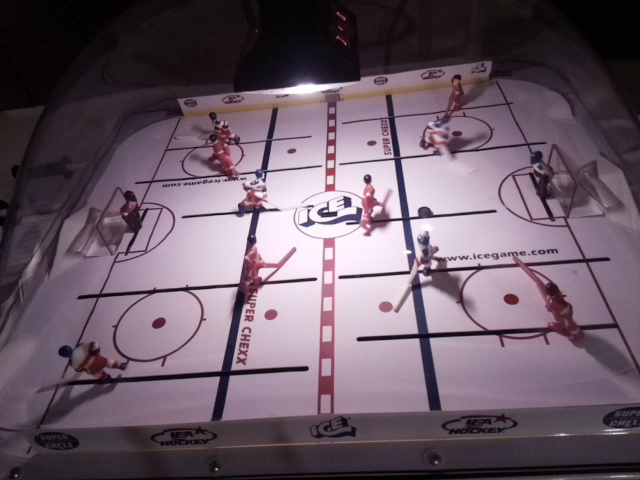puck: (418, 207, 431, 217)
